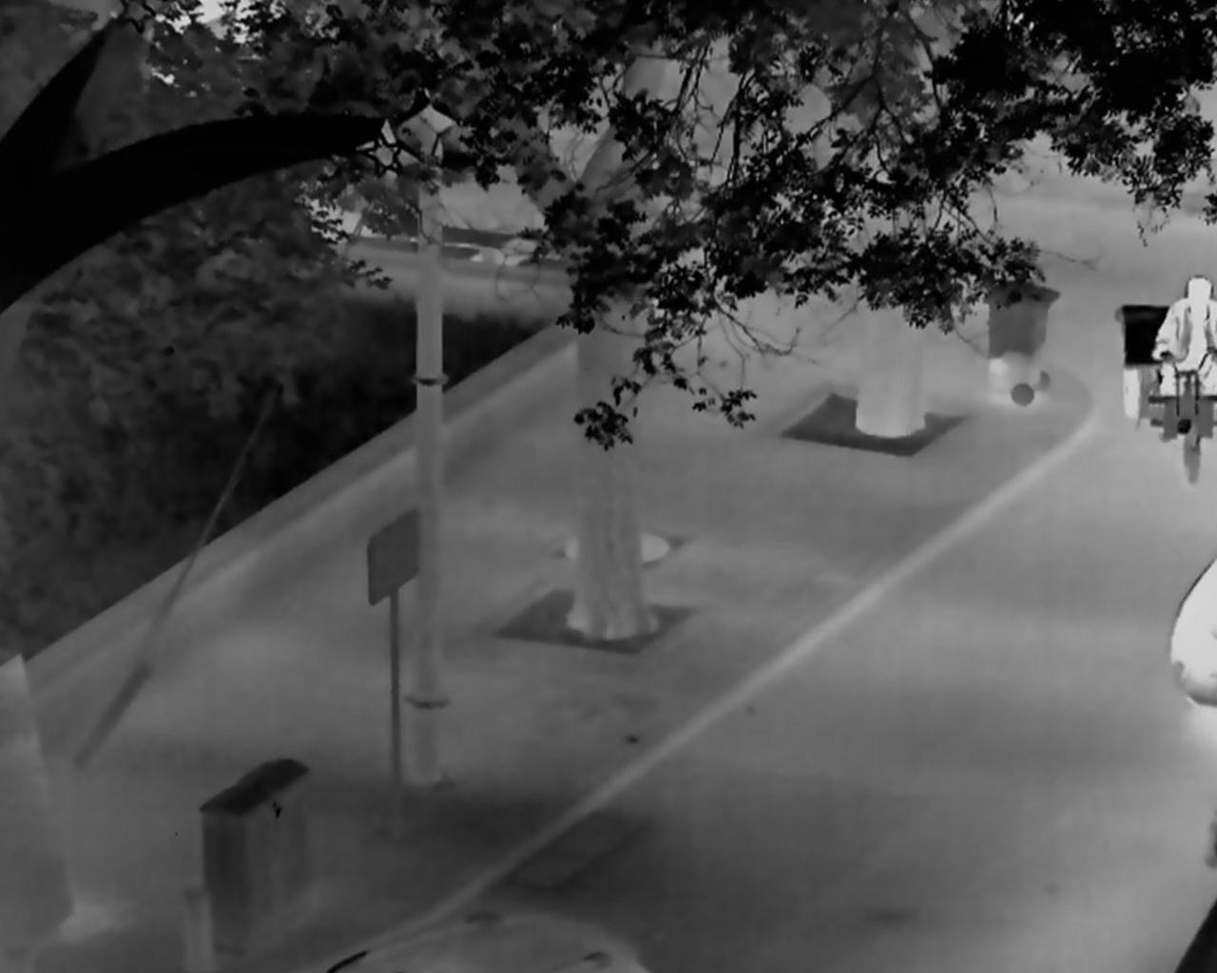person: (1150, 275, 1217, 398)
